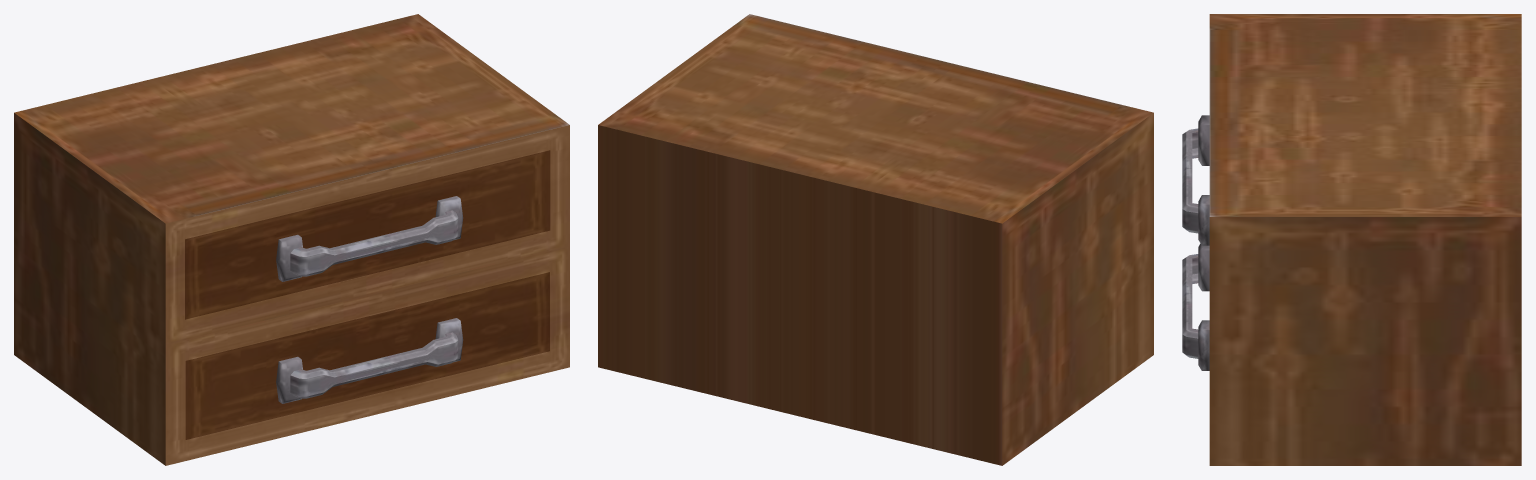
Rendered from quaternius-fantasy-props-workbench-drawers.glb.
3 views of the same model, side by side, from view 1: azimuth 30°, elevation 25°; view 2: azimuth 150°, elevation 25°; view 3: azimuth 270°, elevation 25° (orthographic). The views are drawn at different scales.
Parts seen in each view (by area): view 1: Workbench_Drawers; view 2: Workbench_Drawers; view 3: Workbench_Drawers.
Boxes of the visible parts, x1,y1,x2,y2 form: Workbench_Drawers: (14,14,569,465); Workbench_Drawers: (598,14,1153,465); Workbench_Drawers: (1182,14,1521,465).
Bounding box in the file's own units: 2 × 1.15 × 1.41.
Materials: 2 (2 with a texture image).
